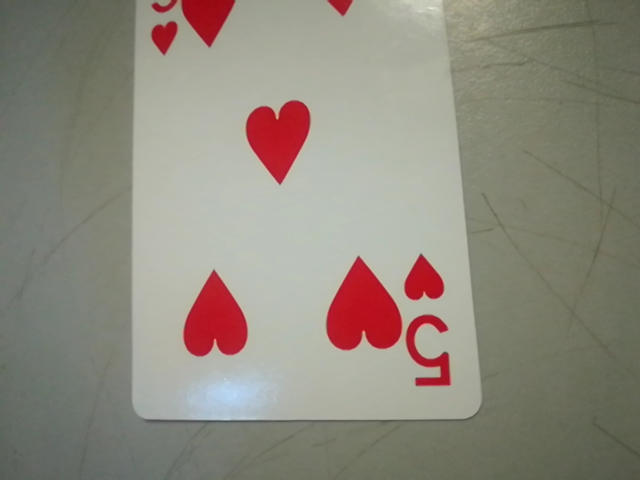hx 5: (395, 245, 466, 397)
